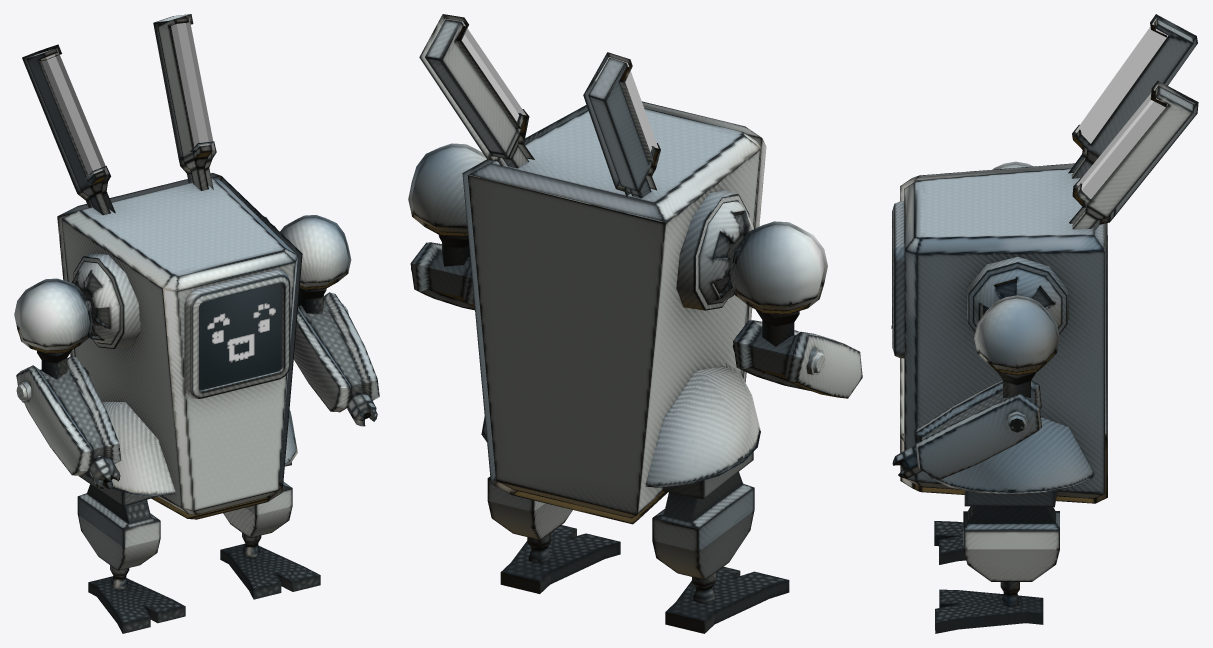
Rendered from PM_Robot.glb.
3 views of the same model, side by side, from view 1: azimuth 30°, elevation 25°; view 2: azimuth 150°, elevation 25°; view 3: azimuth 270°, elevation 25° (orthographic). The views are drawn at different scales.
Visible parts, largest first — view 1: Robot_Art; view 2: Robot_Art; view 3: Robot_Art.
Boxes of the visible parts, box(x1,y1,x2,y2) form: Robot_Art: box(14, 14, 379, 633); Robot_Art: box(408, 14, 862, 633); Robot_Art: box(891, 14, 1198, 633).
Size of the model in its own units: 0.9511 by 1.39 by 0.7259.
Materials: 1 (1 with a texture image).
